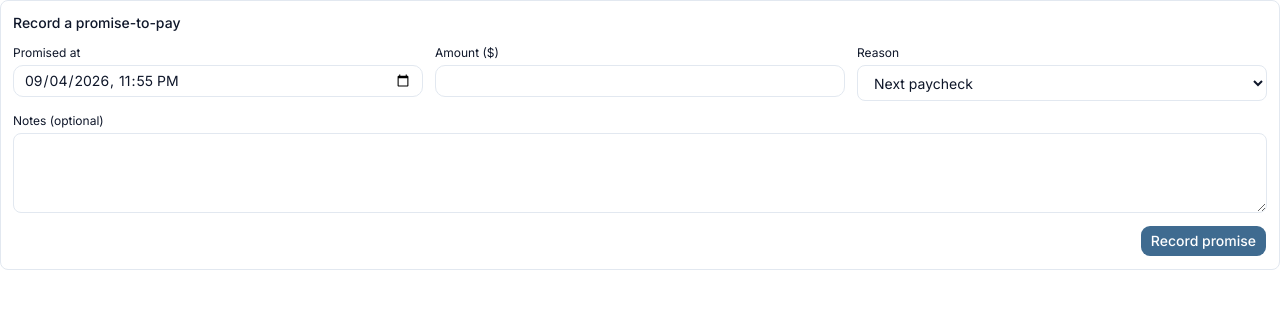
Scenario: RecordPromiseToPayForm › blocks submit when amount is zero
The image size is (1280, 315).
Type "0" into the number field with test id "record-ptp-amount".
click(640, 81); type("0")  # box [435, 65, 845, 97]
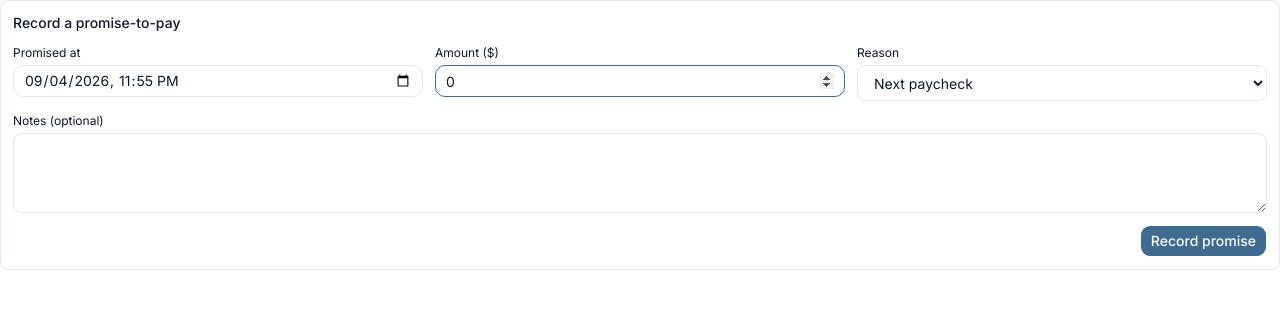
Click the button with test id "record-ptp-submit".
click(1203, 241)  # box [1140, 225, 1267, 257]
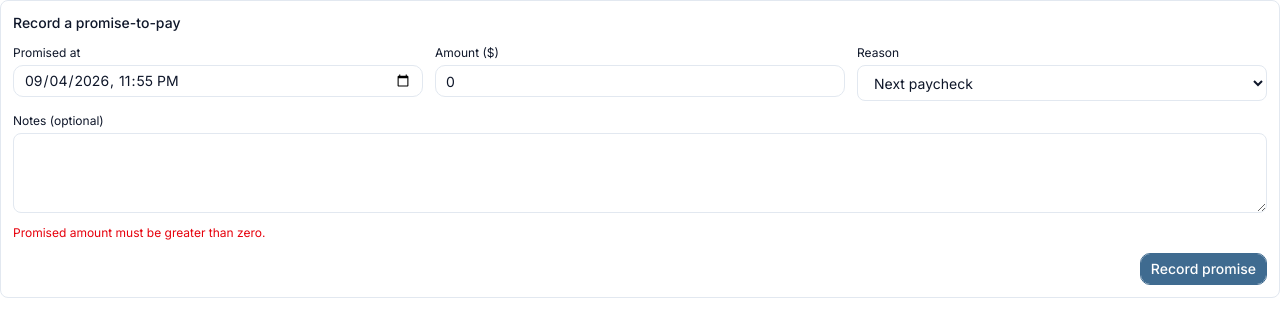
Now the text "Promised amount must be greater than zero." is shown, box [13, 225, 265, 240]
